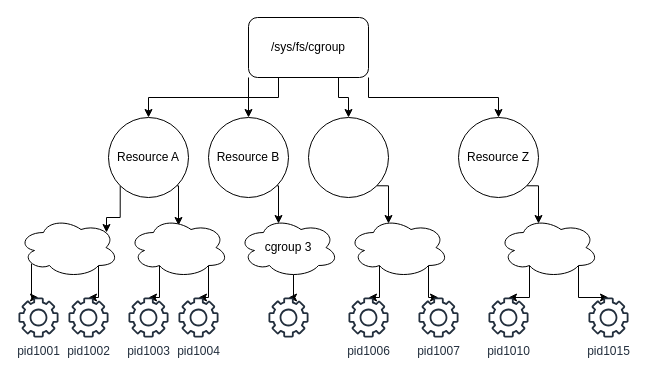
This 647x376 diagram has some shape labels left out. The box of each missing label's shape, as (x1, y1, x2, y2) in pixels:
cgroup 1: (18, 216, 118, 278)
cgroup 2: (128, 216, 228, 278)
cgroup 4: (348, 216, 448, 278)
cgroup 5: (498, 216, 598, 278)
pid1005: (268, 297, 308, 337)
Resource C: (308, 116, 388, 198)
